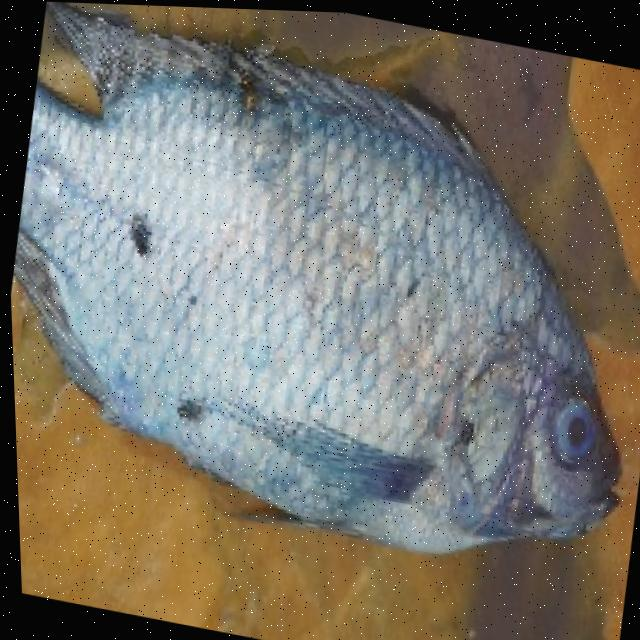Non-Fresh: (70, 56, 578, 549), (525, 371, 615, 485)
